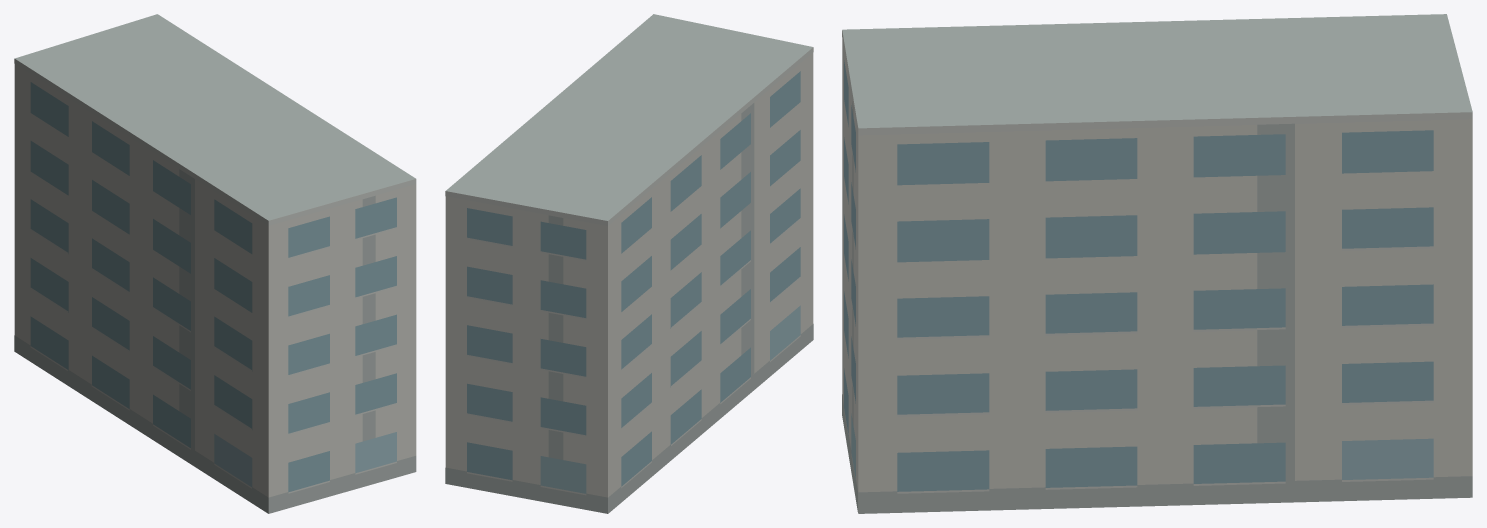
The model's file is survey-upis-32569661.glb.
3 views of the same model, side by side, from view 1: azimuth 30°, elevation 25°; view 2: azimuth 150°, elevation 25°; view 3: azimuth 270°, elevation 25° (orthographic). The views are drawn at different scales.
Visible parts, largest first — view 1: survey-upis-32569661.tmp; view 2: survey-upis-32569661.tmp; view 3: survey-upis-32569661.tmp.
Boxes of the visible parts, x1,y1,x2,y2 form: survey-upis-32569661.tmp: (14,14,416,513); survey-upis-32569661.tmp: (445,14,813,513); survey-upis-32569661.tmp: (842,14,1472,513).
Size of the model in its own units: 8.66 by 13.6 by 20.17.
